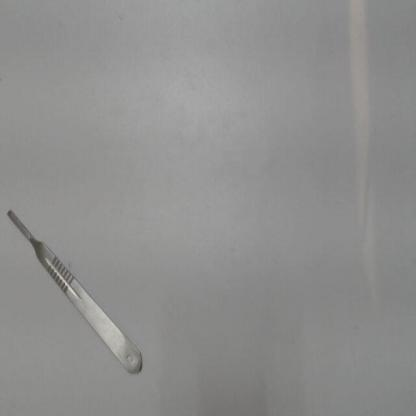No.4 BP Handle: (3, 204, 148, 378)
